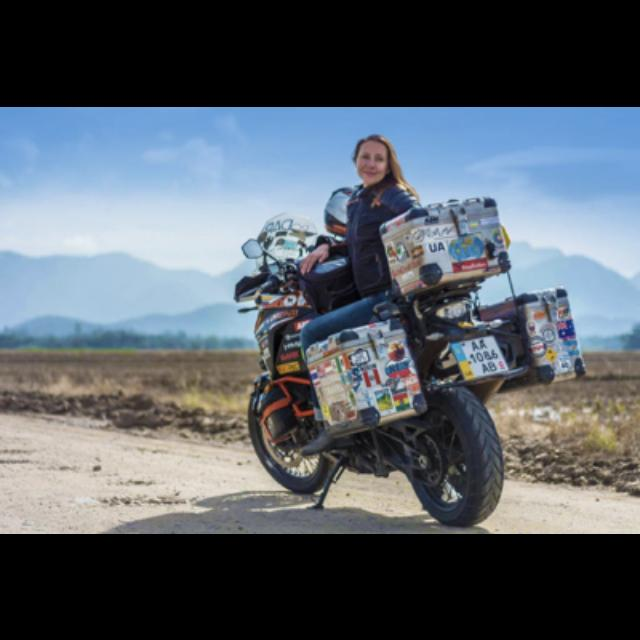With Helmet: (348, 126, 399, 188)
